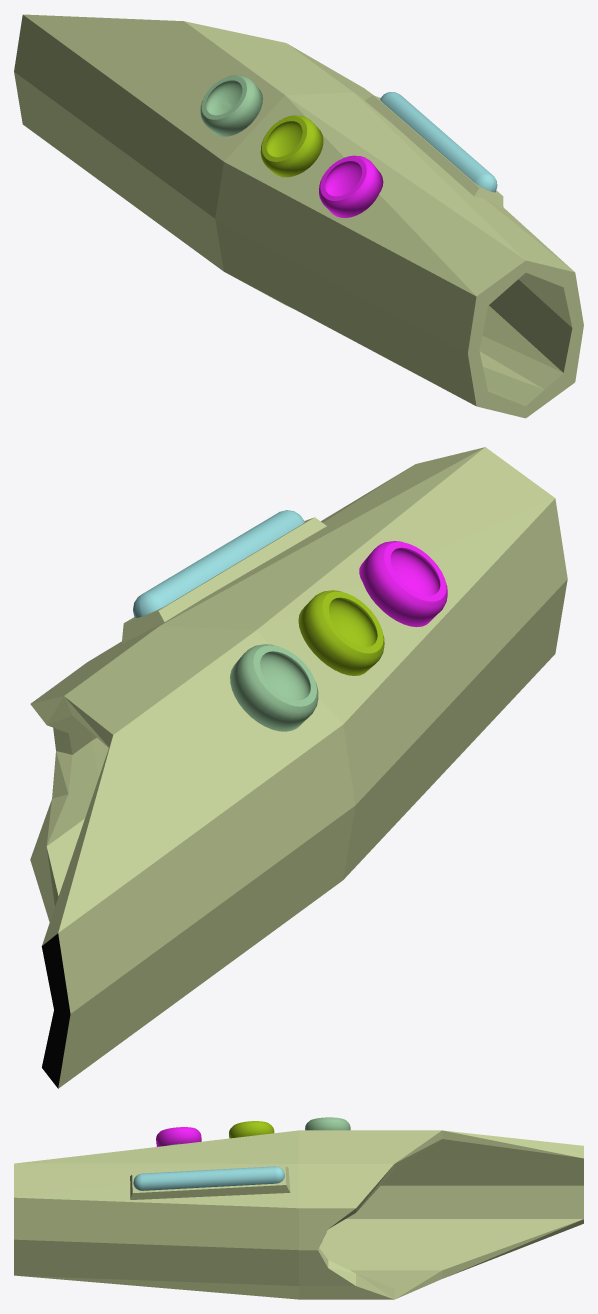
Rendered from Prototype of Prototype Gauntlet.fbx.
3 views of the same model, one above another, from view 1: azimuth 30°, elevation 25°; view 2: azimuth 150°, elevation 25°; view 3: azimuth 270°, elevation 25° (orthographic). The views are drawn at different scales.
Visible parts, largest first — view 1: Gauntlet; view 2: Gauntlet; view 3: Gauntlet.
Boxes of the visible parts, bbox=[...] form: Gauntlet: bbox=[14, 14, 583, 418]; Gauntlet: bbox=[30, 447, 567, 1088]; Gauntlet: bbox=[14, 1117, 583, 1299].
Size of the model in its own units: 8.52 by 8.94 by 30.
